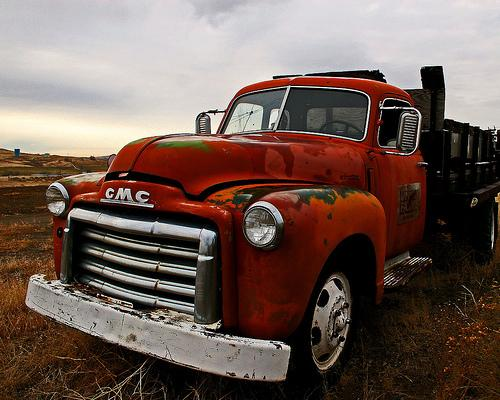truck: (26, 64, 500, 390)
